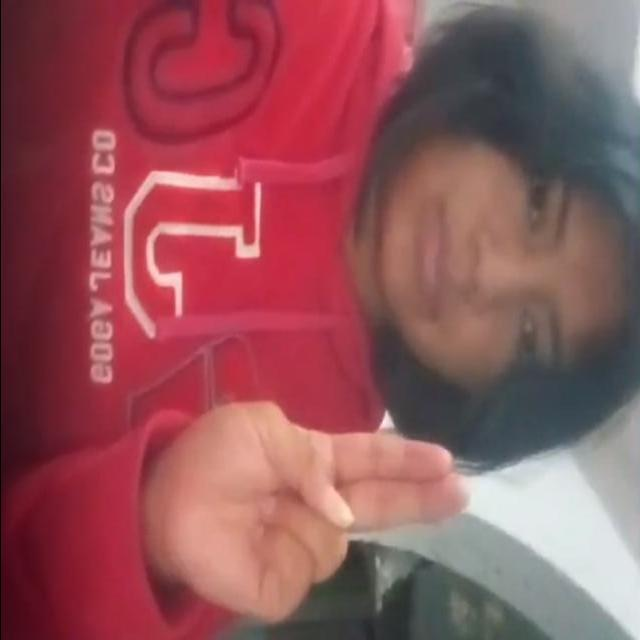U: (136, 402, 482, 639)
